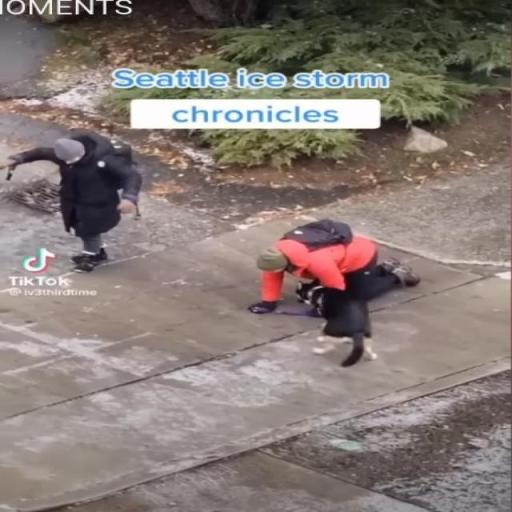Fall: (247, 220, 423, 317)
